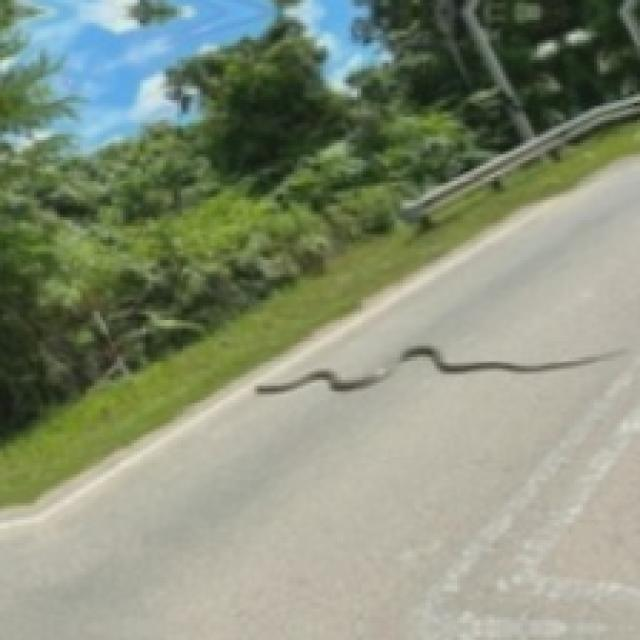king cobra: (254, 346, 623, 391)
